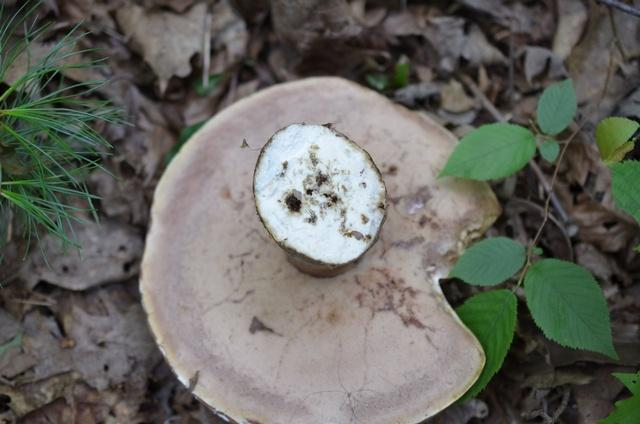Non-edible Mushroom: (137, 74, 502, 422)
